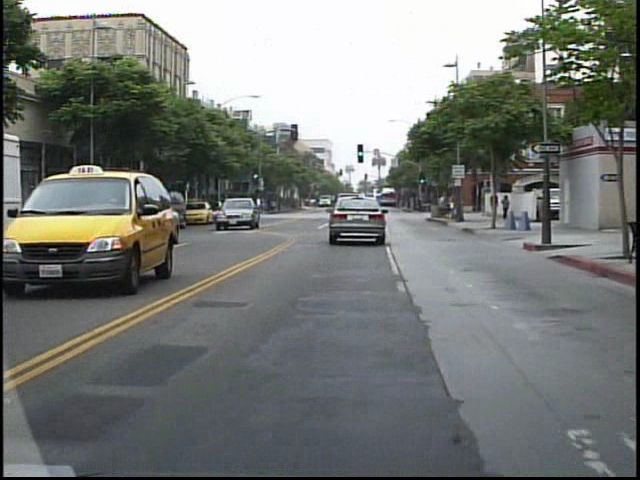person: (483, 186, 498, 226), (430, 188, 448, 220), (494, 190, 508, 224), (253, 193, 264, 214)
